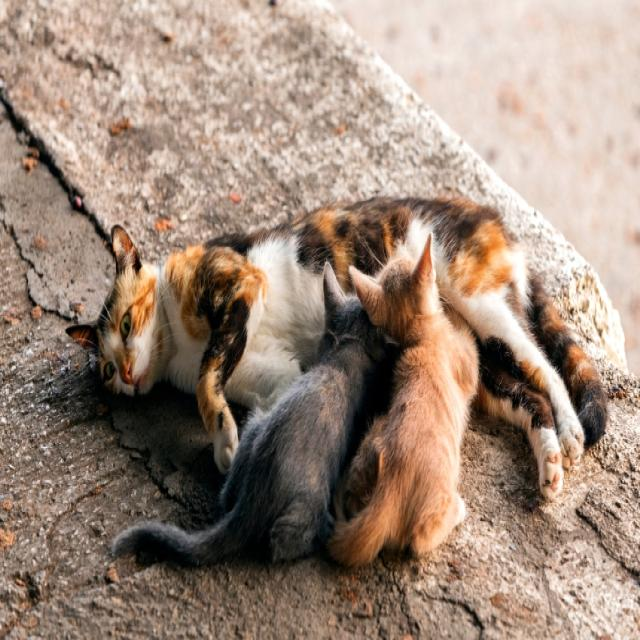cat: (69, 198, 608, 497), (111, 264, 395, 564), (328, 236, 478, 564)
